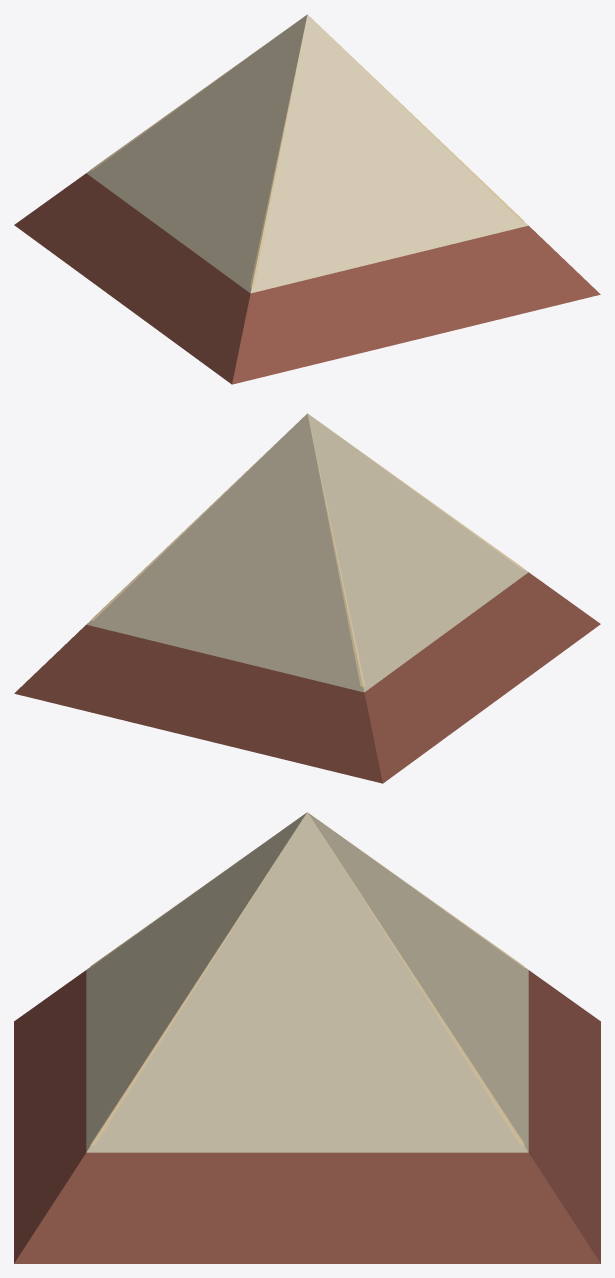
Rendered from giza-menkaure.glb.
The picture shows the model from 3 angles, top to bottom: view 1: azimuth 30°, elevation 25°; view 2: azimuth 150°, elevation 25°; view 3: azimuth 270°, elevation 25°; orthographic projection. The views are drawn at different scales.
Parts seen in each view (by area): view 1: object 2, object 1, arrises; view 2: object 2, object 1, arrises; view 3: object 2, object 1, arrises.
Part boxes in pixels (x1,y1,x2,y2): object 2: (86, 14, 528, 293); object 1: (14, 173, 600, 384); arrises: (90, 17, 524, 287); object 2: (86, 413, 528, 692); object 1: (14, 572, 600, 783); arrises: (90, 417, 524, 686); object 2: (86, 812, 528, 1152); object 1: (14, 970, 600, 1263); arrises: (90, 821, 524, 1145).
Bounding box in the file's own units: 102 × 65 × 105.
